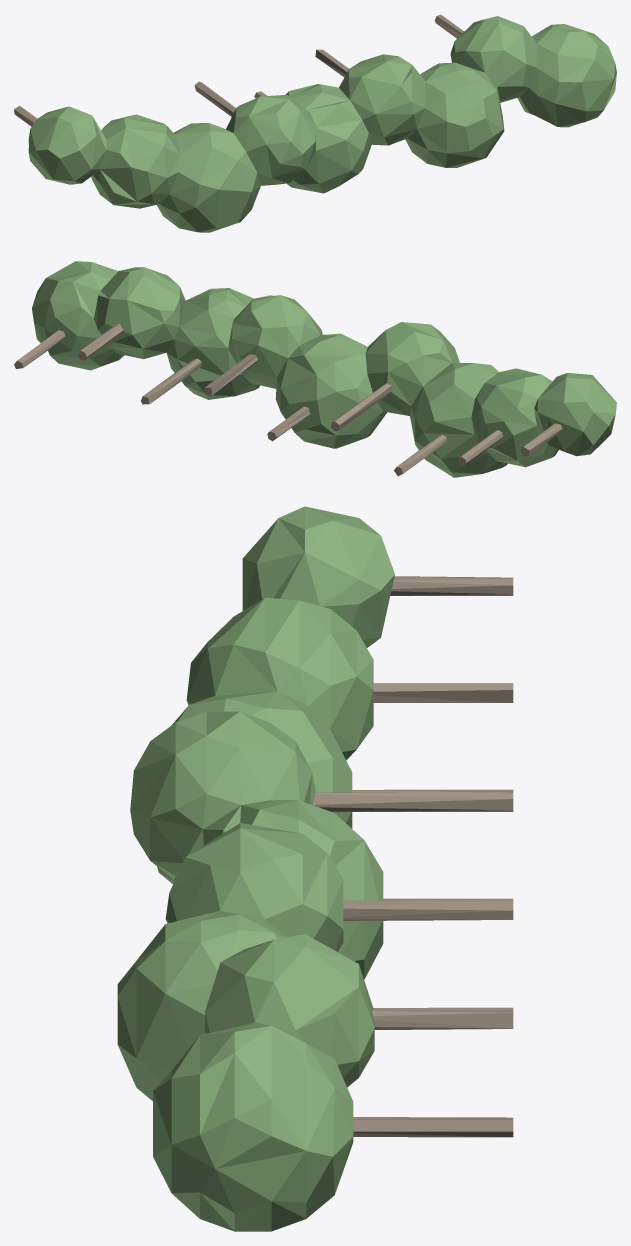
Rendered from r-109-swan-point-wooded-bluff.lod1.glb.
The picture shows the model from 3 angles, top to bottom: view 1: azimuth 30°, elevation 25°; view 2: azimuth 150°, elevation 25°; view 3: azimuth 270°, elevation 25°; orthographic projection. The views are drawn at different scales.
Visible parts, largest first — view 1: foliage, trunks; view 2: foliage, trunks; view 3: foliage, trunks.
Part boxes in pixels (box(x1,y1,x2,y2)): foliage: box(28, 16, 616, 232); trunks: box(14, 14, 463, 126); foliage: box(32, 261, 616, 477); trunks: box(14, 323, 562, 476); foliage: box(117, 506, 394, 1231); trunks: box(313, 576, 513, 1137).
Bounding box in the file's own units: 55747 × 12814 × 17096.
